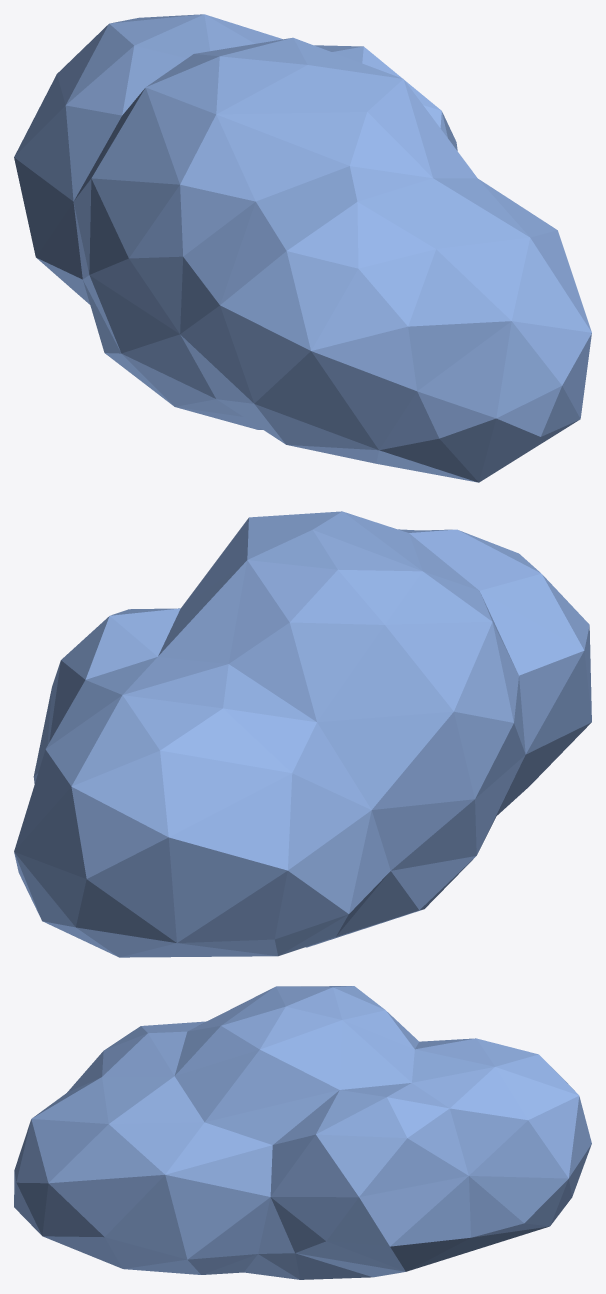
File: cloud2.gltf
3 renders of one model, top to bottom at view 1: azimuth 30°, elevation 25°; view 2: azimuth 150°, elevation 25°; view 3: azimuth 270°, elevation 25°, orthographic. The views are drawn at different scales.
Visible parts, largest first — view 1: cloud2_geo; view 2: cloud2_geo; view 3: cloud2_geo.
Part boxes in pixels (x1,y1,x2,y2): cloud2_geo: (14,14,591,482); cloud2_geo: (14,511,591,957); cloud2_geo: (14,986,591,1279).
Size of the model in its own units: 1.89 by 1.68 by 3.34.
